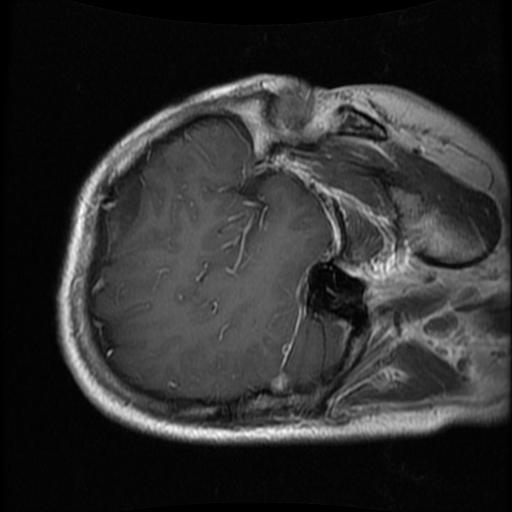glioma: (112, 174, 141, 242)
